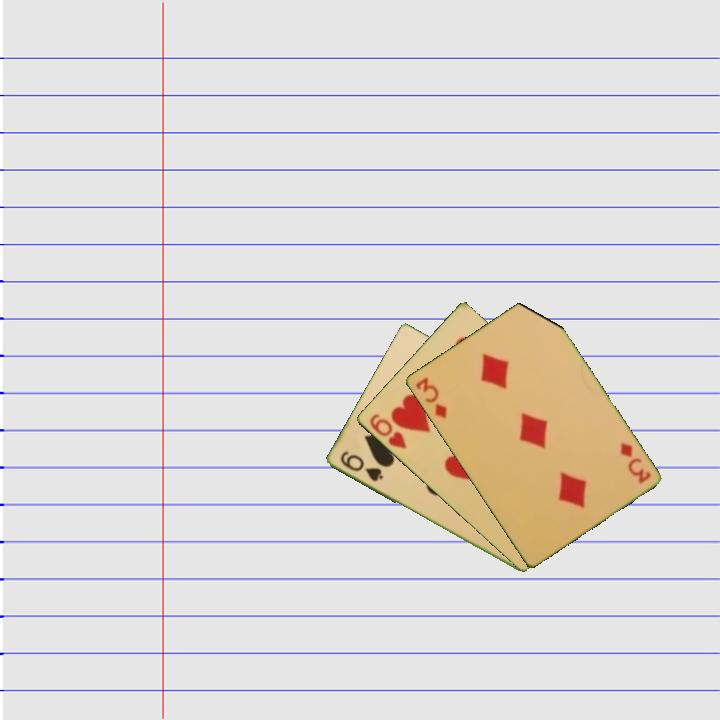3d: (411, 373, 449, 422), (616, 439, 654, 486)
6h: (366, 410, 409, 452)
6s: (336, 447, 385, 485)
